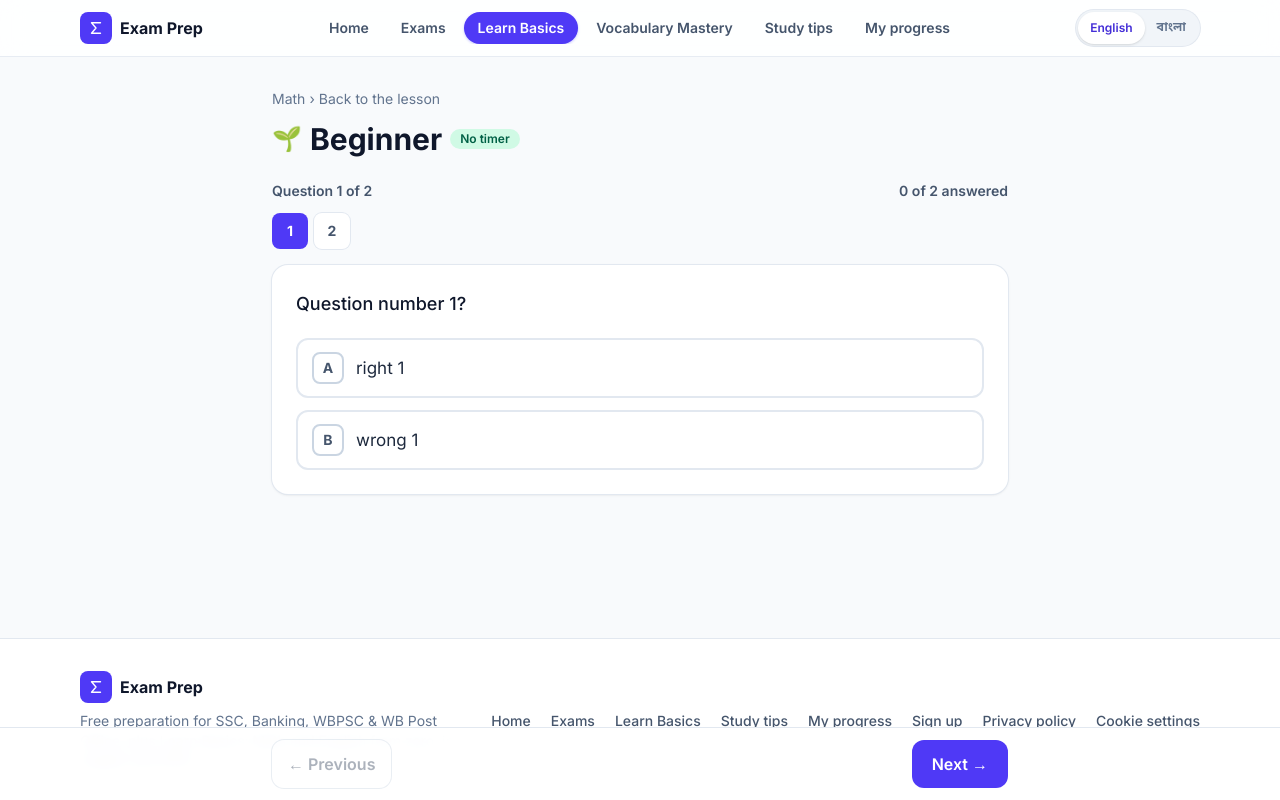
Test: learn › beginner quiz: no timer, review shows right and wrong with explanations, retry gets new questions
Expected: the text "Question number 1?" is shown, 296,293 -> 466,314
Click the radio button labelled "A right 1".
click(328, 368)  # box 296,338 -> 984,398
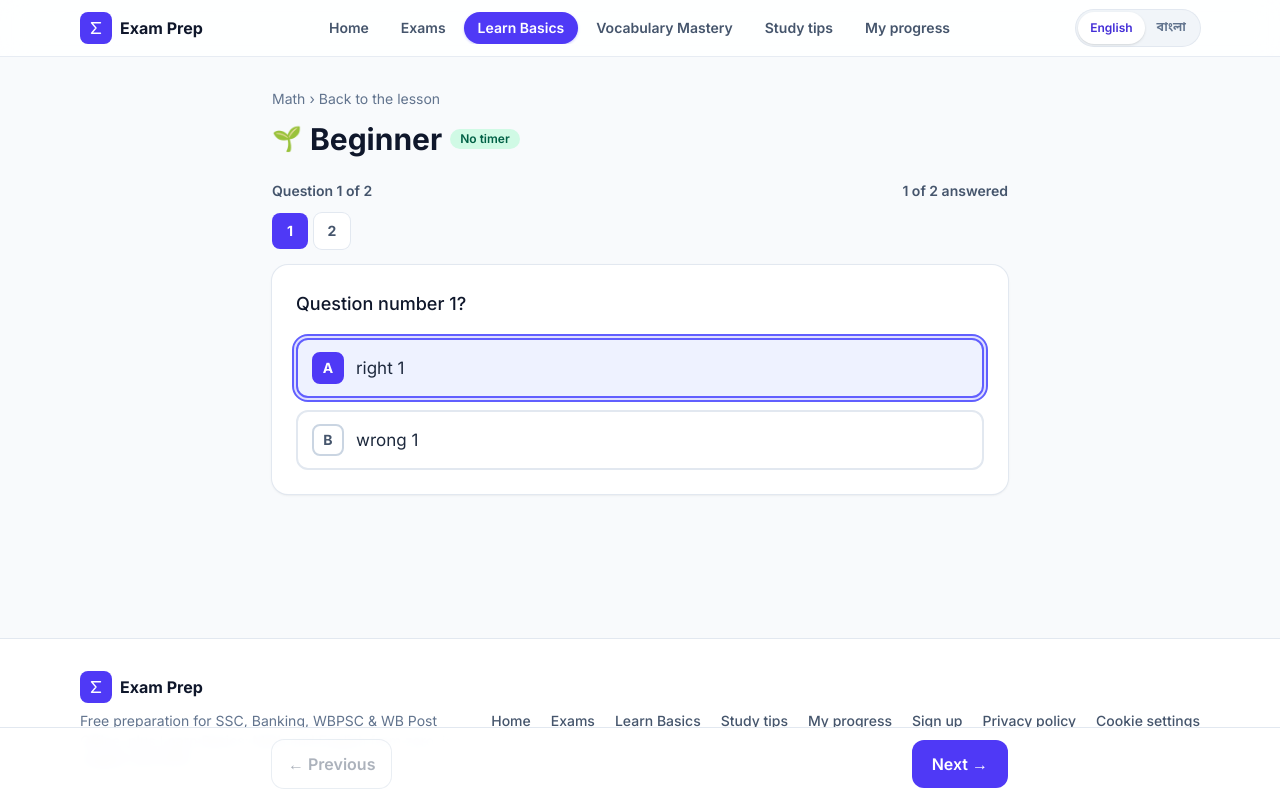
Click the button "Next →".
click(960, 764)  # box 912,740 -> 1008,788
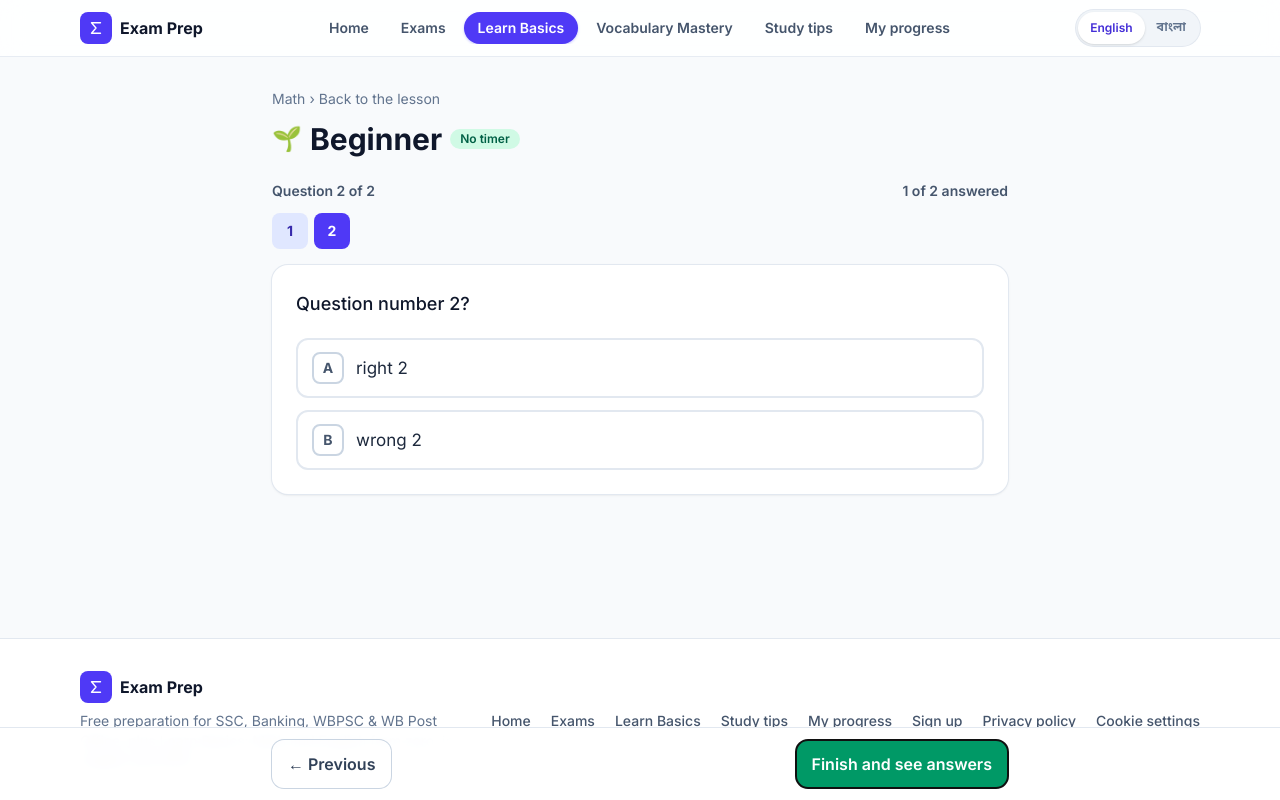
Click the radio button labelled "B wrong 2".
click(328, 440)  # box 296,410 -> 984,470
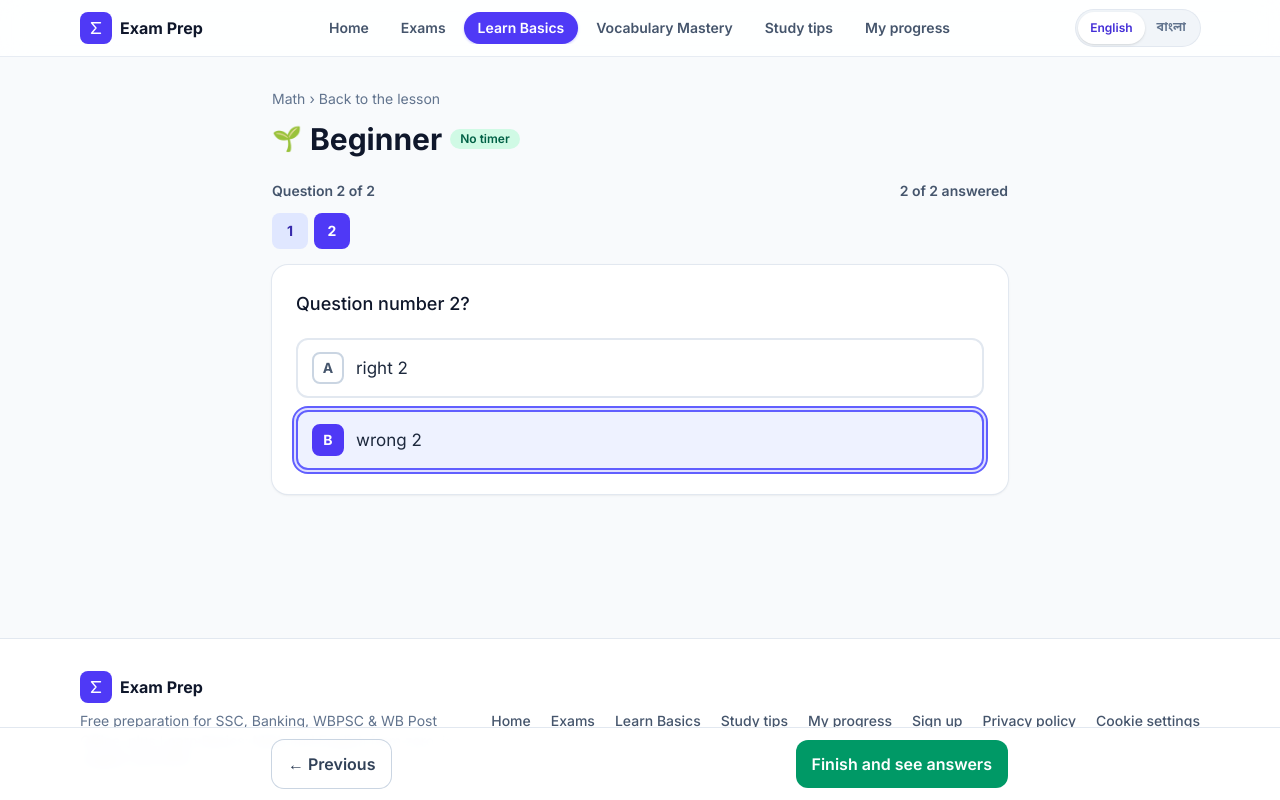
Click the button "Finish and see answers".
click(902, 764)  # box 796,740 -> 1008,788
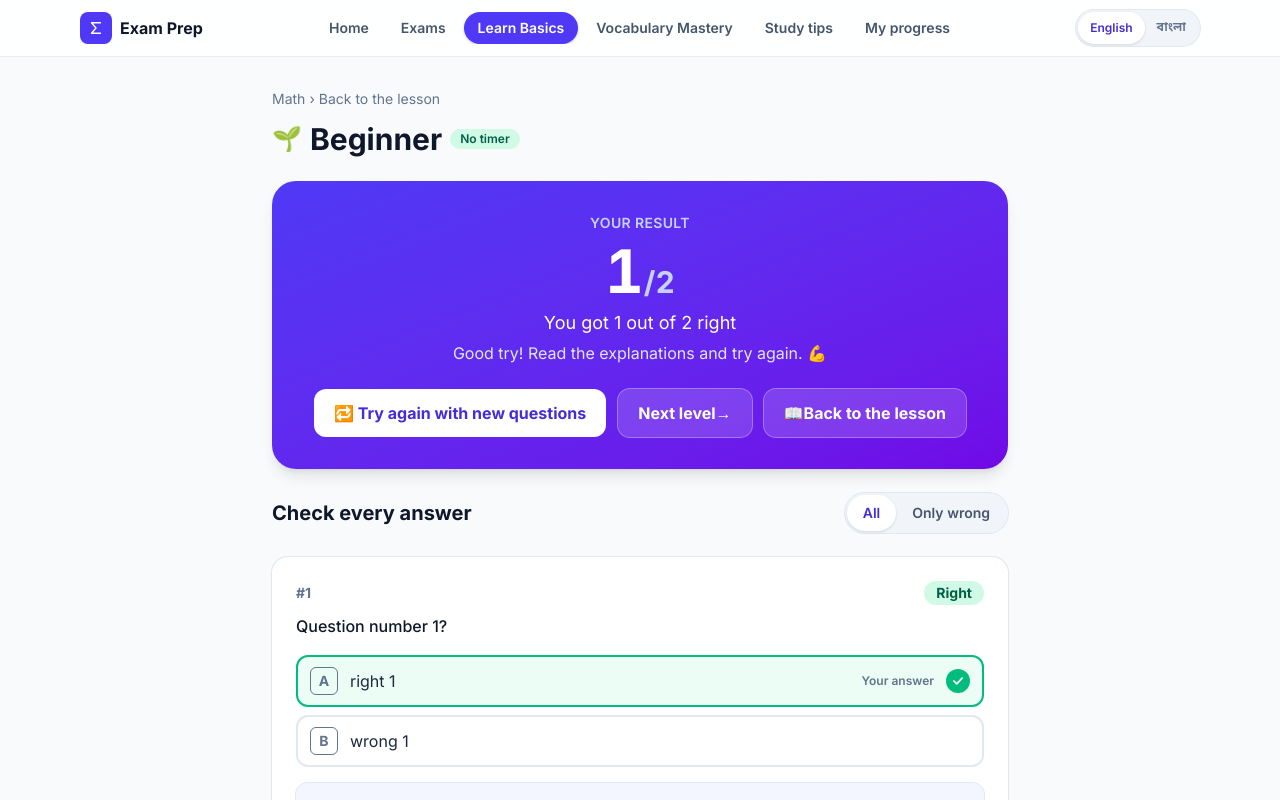
Expected: the text "You got 1 out of 2 right" is shown, 544,312 -> 736,333
Expected: the text "Right" is shown, 924,581 -> 984,605
Click the button "🔁 Try again with new questions".
click(460, 413)  # box 314,389 -> 606,437
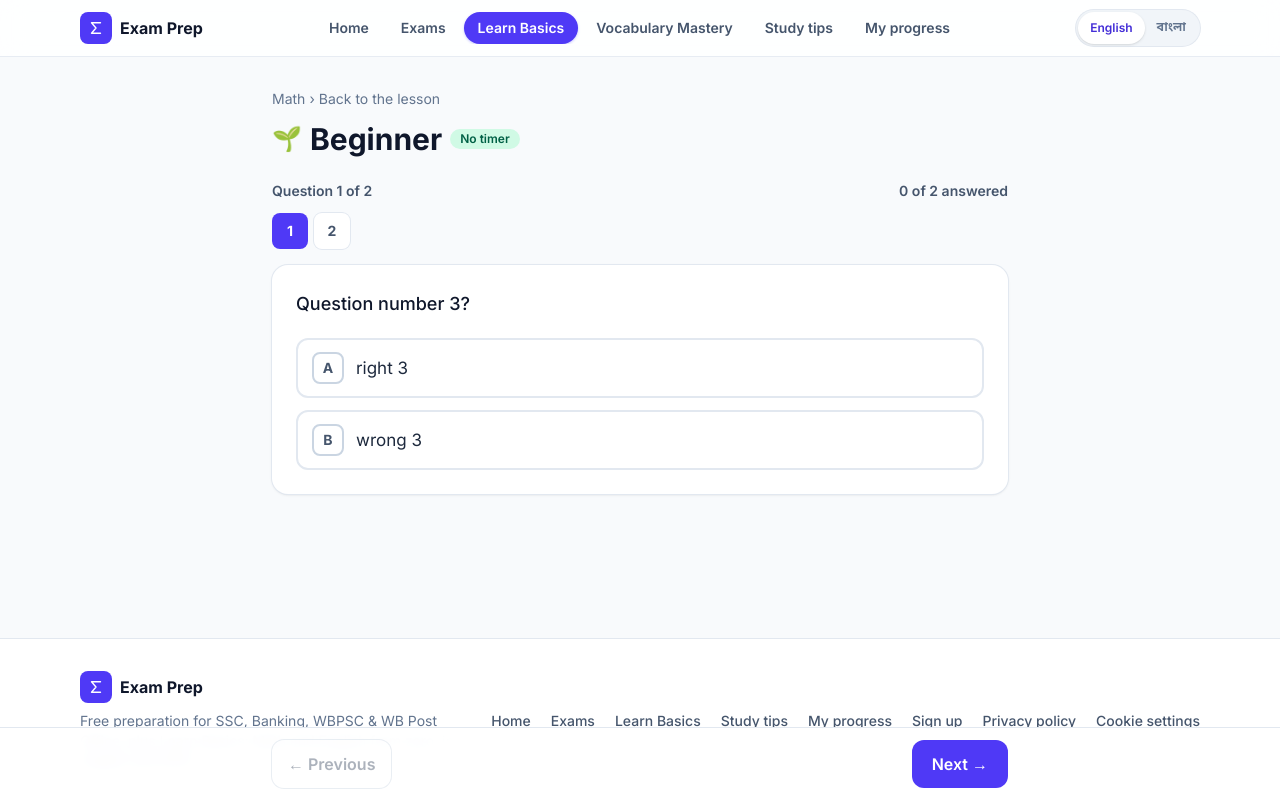
Expected: the text "Question number 3?" is shown, 296,293 -> 470,314
